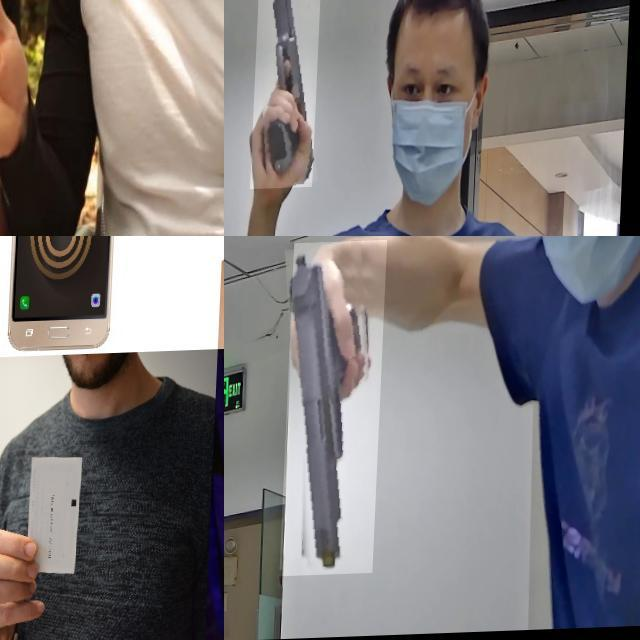-: (0, 0, 44, 186)
gun-knife-thesis - v11 Yolov5 augmented: (284, 242, 390, 578), (254, 0, 324, 191)
